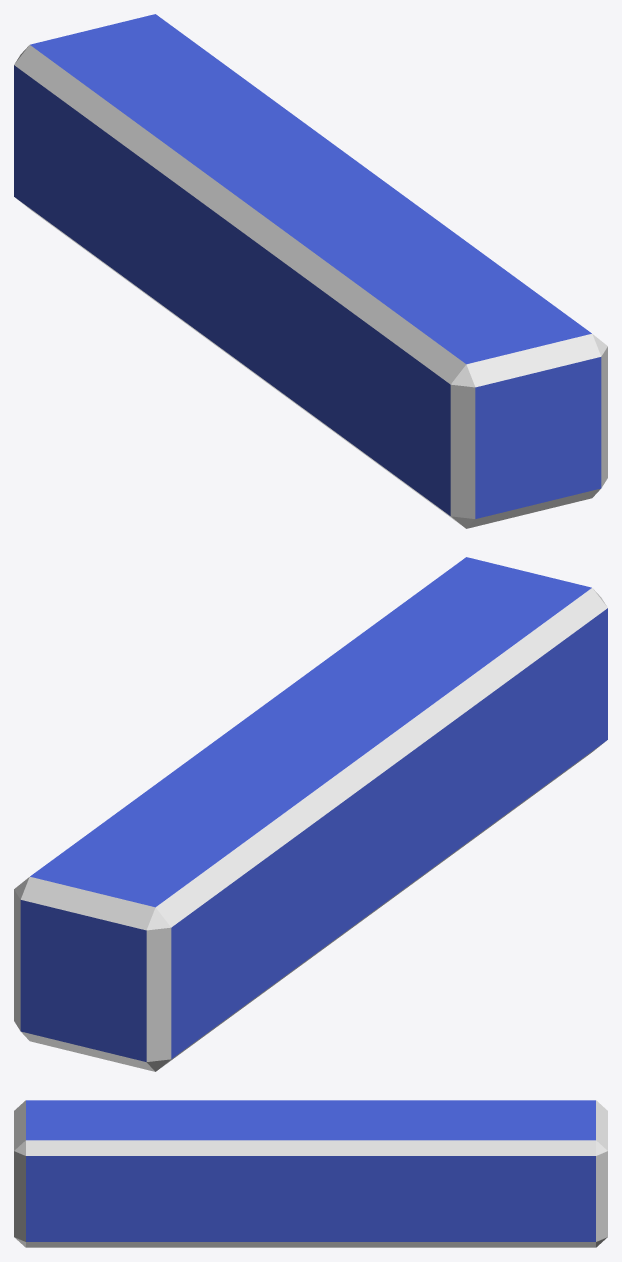
Rendered from Zid 1x5.fbx.
3 views of the same model, one above another, from view 1: azimuth 30°, elevation 25°; view 2: azimuth 150°, elevation 25°; view 3: azimuth 270°, elevation 25° (orthographic). The views are drawn at different scales.
Parts seen in each view (by area): view 1: Cube.013; view 2: Cube.013; view 3: Cube.013.
Part boxes in pixels (<box>): Cube.013: <box>14,14,607,528</box>; Cube.013: <box>14,557,607,1071</box>; Cube.013: <box>14,1100,607,1247</box>.
Size of the model in its own units: 1 by 1 by 5.01.
